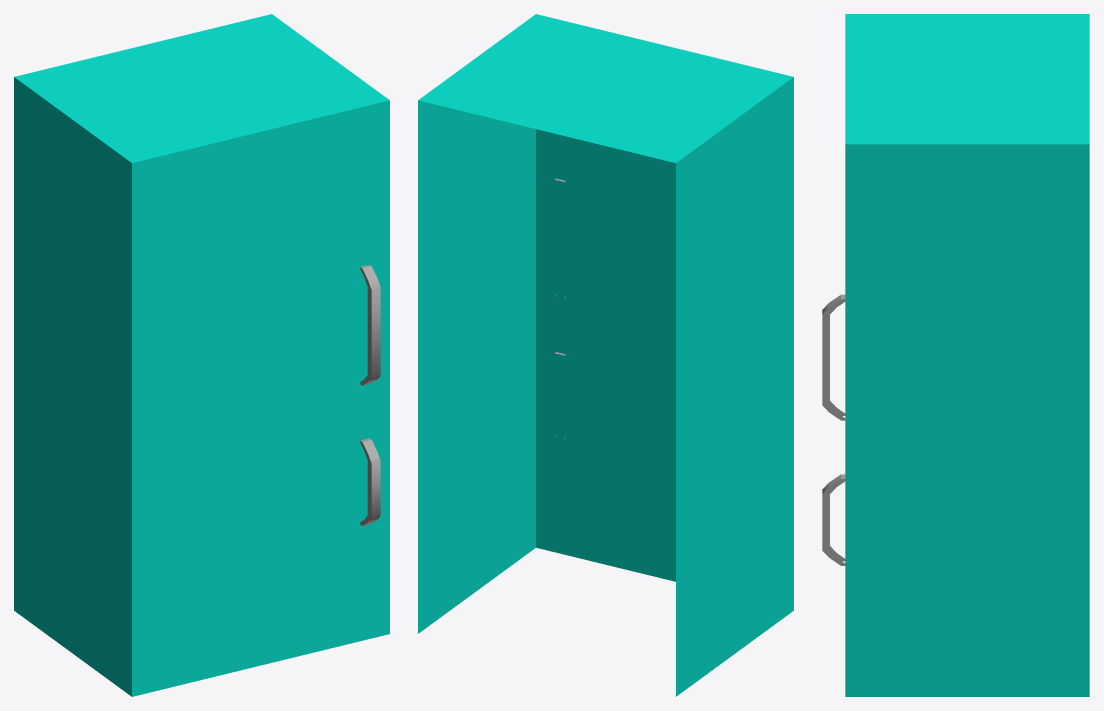
File: kitchen_Fridge.fbx
The picture shows the model from 3 angles, left to right: view 1: azimuth 30°, elevation 25°; view 2: azimuth 150°, elevation 25°; view 3: azimuth 270°, elevation 25°; orthographic projection. The views are drawn at different scales.
Parts seen in each view (by area): view 1: kitchen_Fridge; view 2: kitchen_Fridge; view 3: kitchen_Fridge.
Boxes of the visible parts, x1,y1,x2,y2 form: kitchen_Fridge: (14, 14, 389, 696); kitchen_Fridge: (418, 14, 793, 696); kitchen_Fridge: (822, 14, 1089, 696).
Size of the model in its own units: 4.65 by 9.2 by 4.03.
